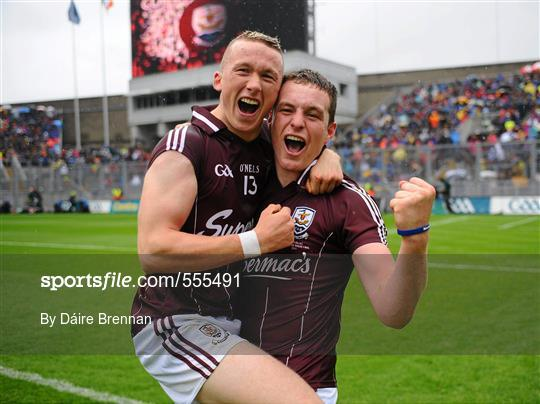player: (127, 19, 281, 383), (242, 46, 407, 377)
